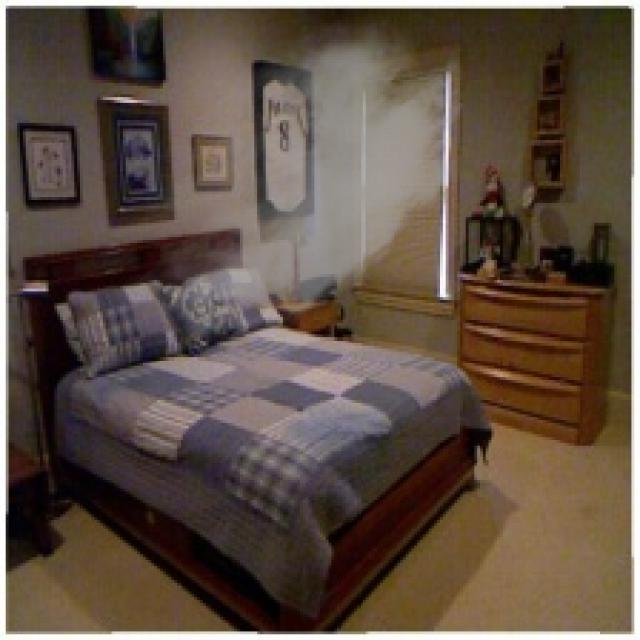smoke: (114, 3, 477, 357)
